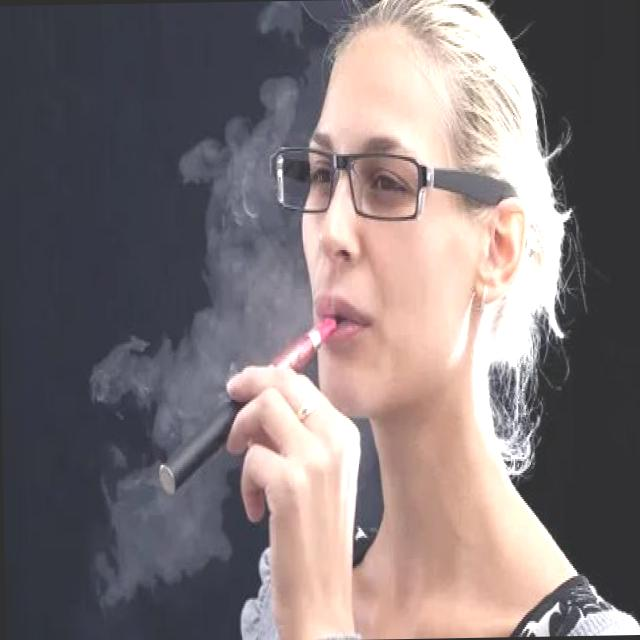cigarette: (153, 308, 342, 499)
